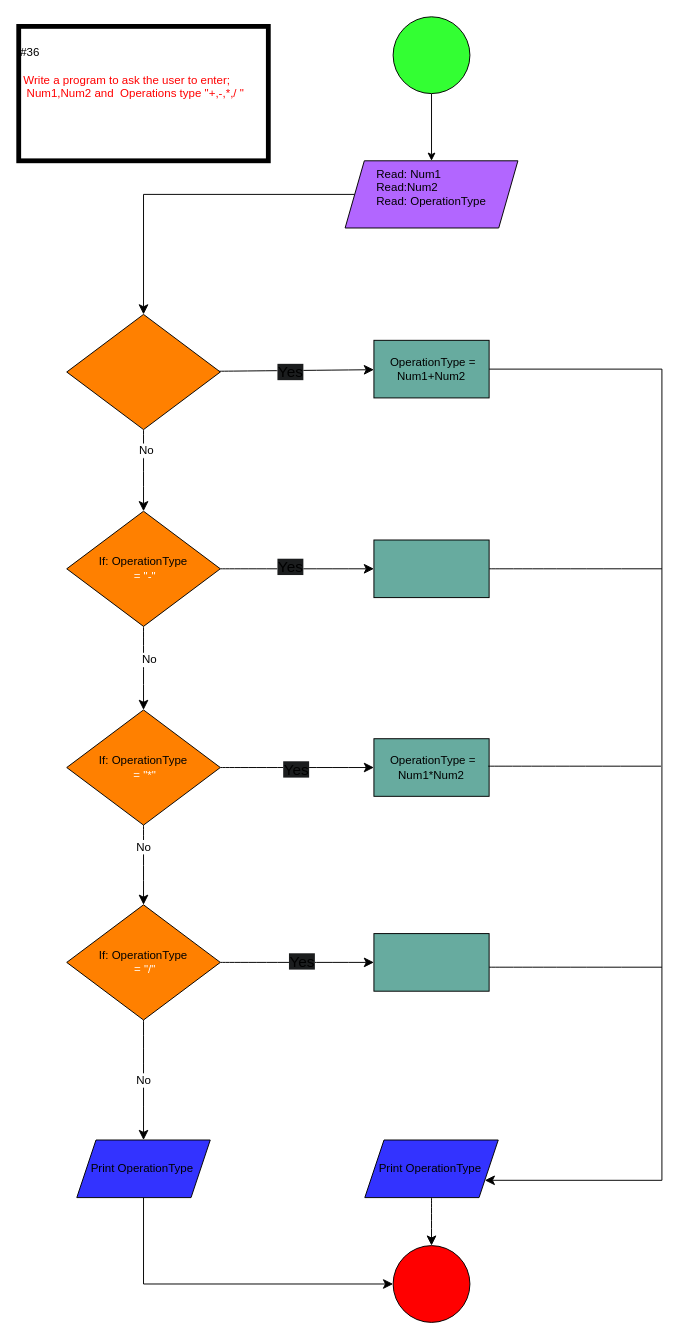
This 688x1339 diagram has some shape labels left out. Here are the shapes that lost their labels. From the top down, the centre of each, then its label:
pixel 431 55: Start
pixel 143 371: If: OperationType = "+"
pixel 431 568: OperationType = Num1-Num2
pixel 431 962: OperationType = Num1/Num2
pixel 431 1283: End
